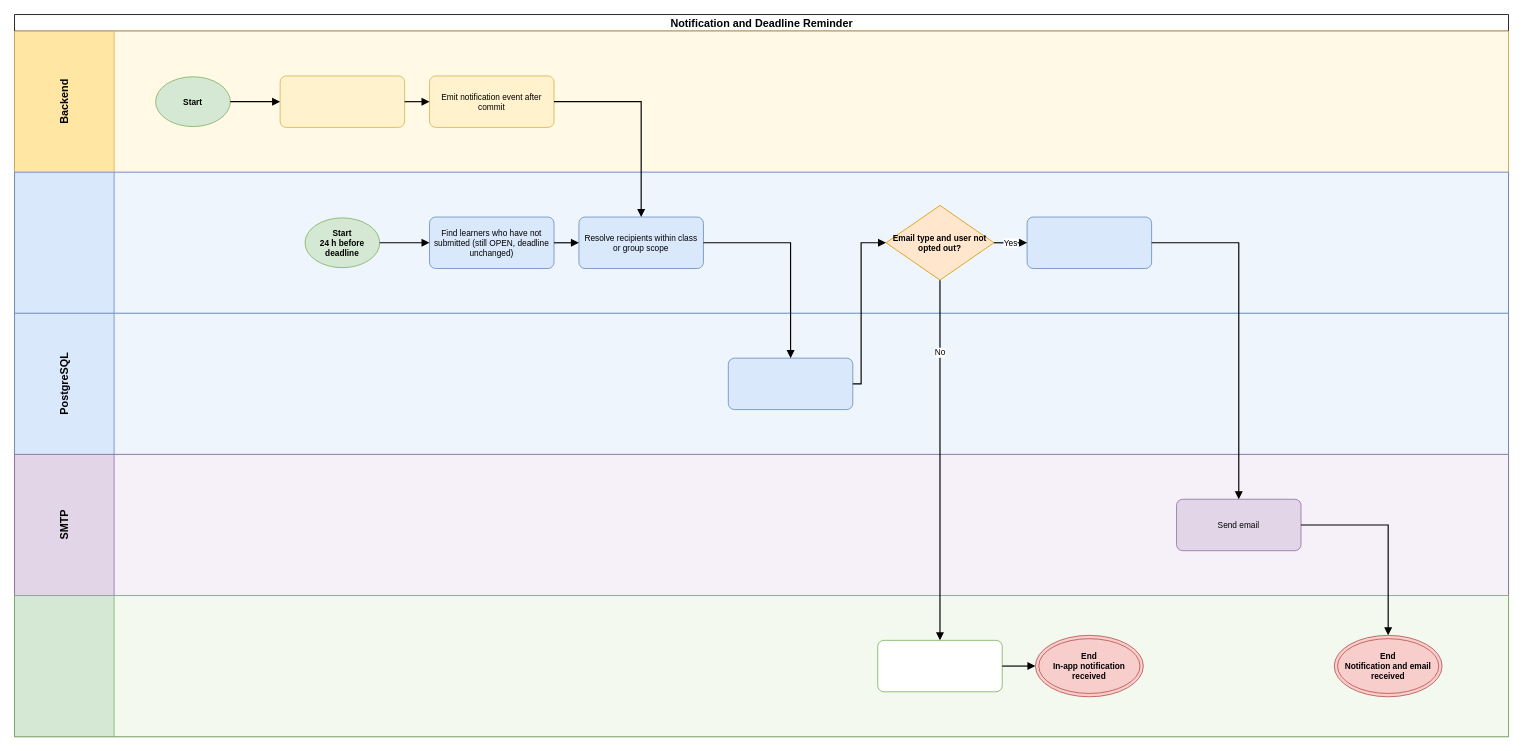
This 1523x751 diagram has some shape labels left out. Here are the shapes that lost their labels. From the top down, the box of each, then its label:
(279, 75, 405, 127): Commit business change (e.g. assignment opened, grade published)
(14, 171, 1509, 313): Worker
(1026, 216, 1152, 269): Queue email, dispatch within daily cap (else defer to next day)
(727, 357, 853, 410): Insert notification (duplicates ignored)
(14, 595, 1509, 737): User
(877, 640, 1002, 692): Receive in-app notification (SSE bell)
